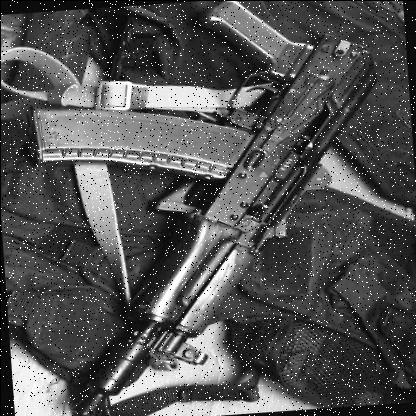rifle: (22, 0, 414, 416)
